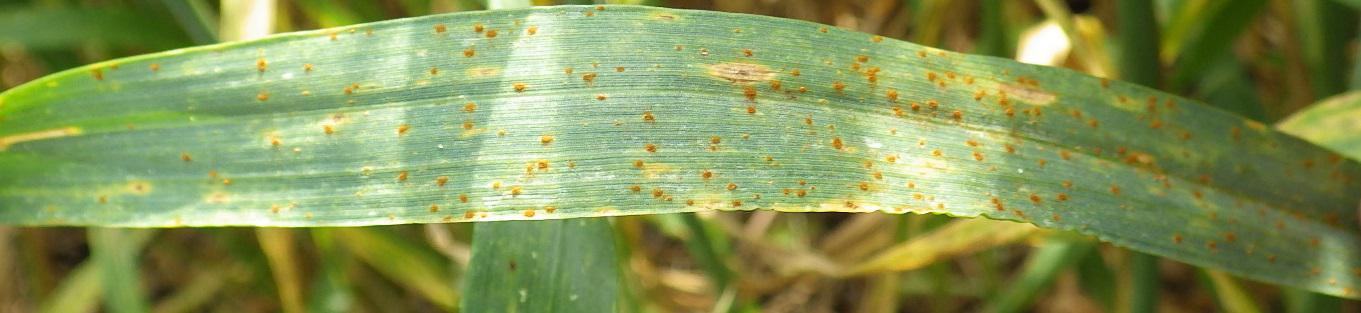Wheat: (579, 31, 777, 200), (783, 36, 976, 208), (982, 78, 1204, 225), (354, 65, 572, 210), (224, 55, 342, 207)
